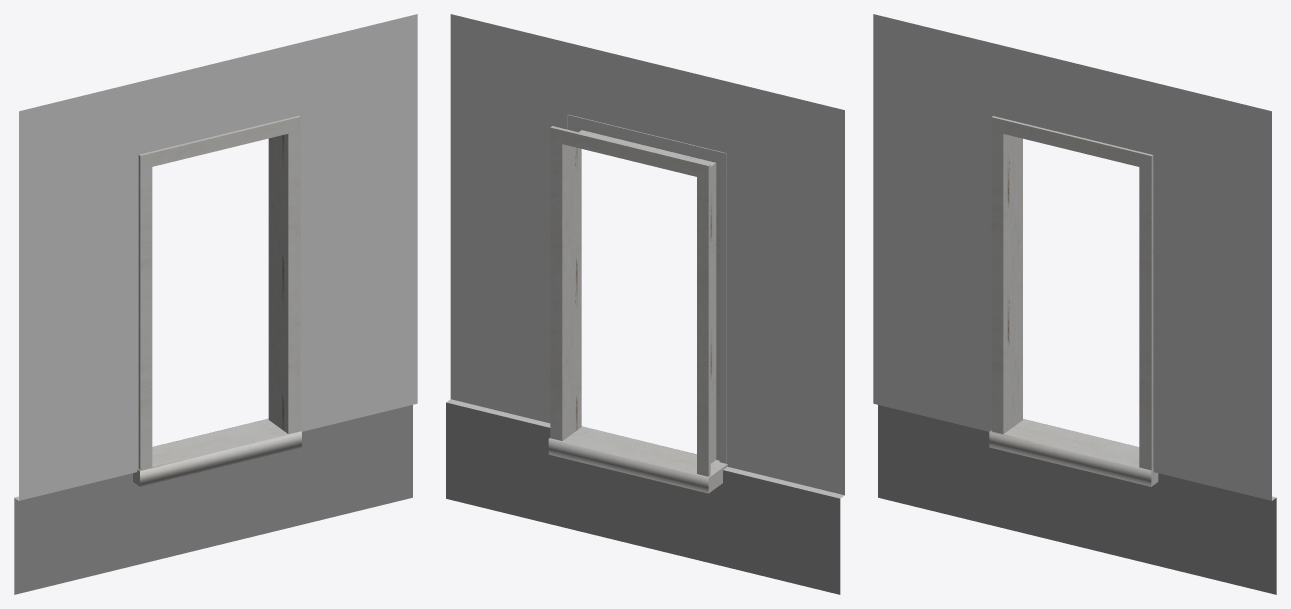
Rendered from Wall_Door_Single_A_3x_COL.FBX.
The picture shows the model from 3 angles, left to right: view 1: azimuth 30°, elevation 25°; view 2: azimuth 150°, elevation 25°; view 3: azimuth 330°, elevation 25°; orthographic projection.
Parts seen in each view (by area): view 1: Wall_Door_Single_A_3x_COL; view 2: Wall_Door_Single_A_3x_COL; view 3: Wall_Door_Single_A_3x_COL.
Part boxes in pixels (left/top/right/bottom): Wall_Door_Single_A_3x_COL: left=14, top=14, right=417, bottom=594; Wall_Door_Single_A_3x_COL: left=446, top=14, right=844, bottom=594; Wall_Door_Single_A_3x_COL: left=873, top=14, right=1276, bottom=594.
Size of the model in its own units: 300 by 350 by 28.33.
